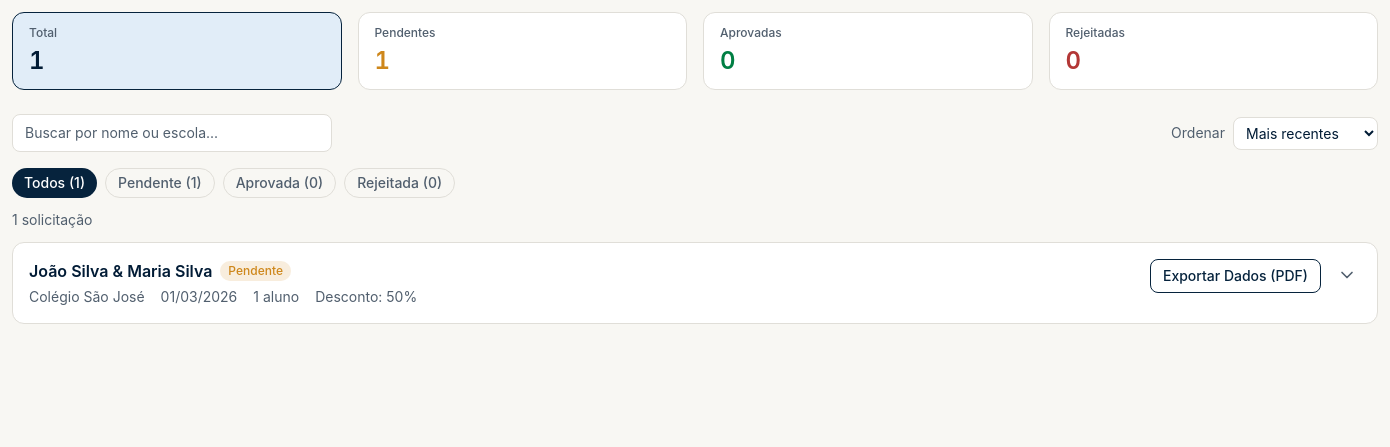
SolicitacoesClient › expand/collapse toggles detail visibility
Click the button with test id "card-toggle" at (69, 271), box [29,259,1138,307]
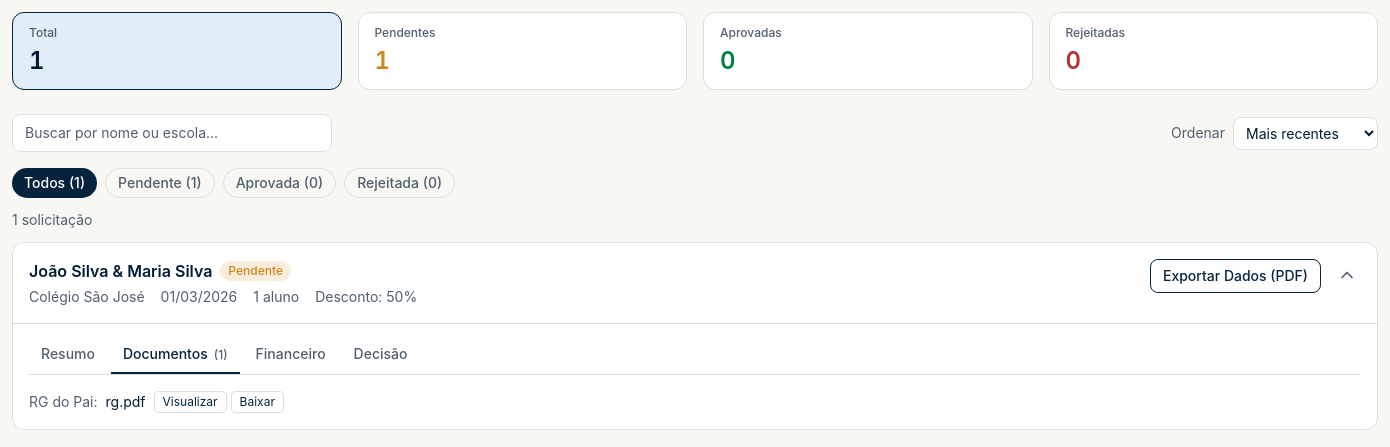
Expected: the element with test id "card-detail" is shown, [13,323,1377,429]
Click the button with test id "card-toggle" at (69, 271), box [29,259,1138,307]
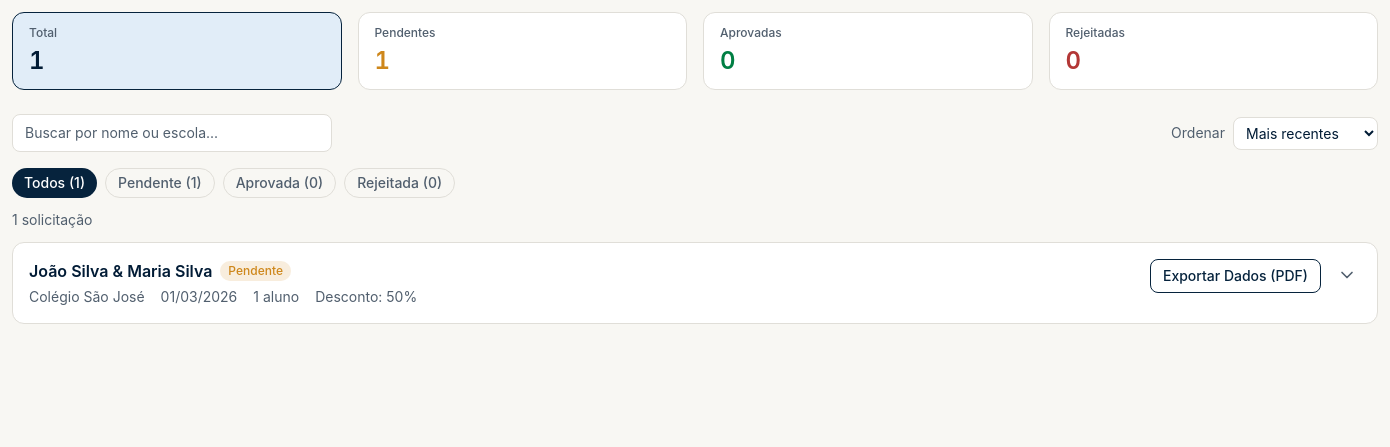
Expected: the element with test id "card-detail" is gone
